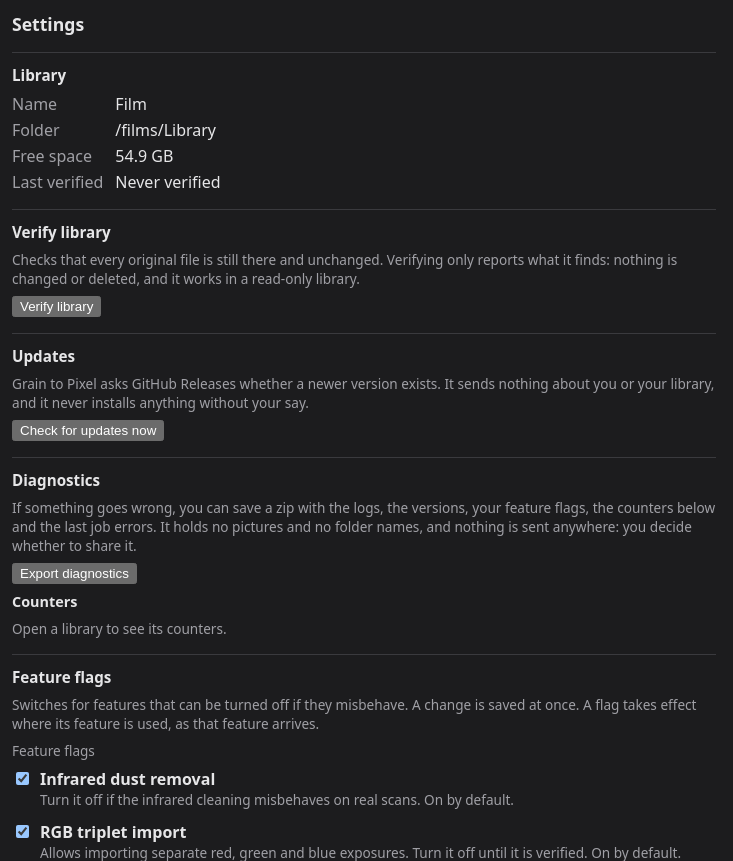
it: verifying the library from Settings › while it runs › starts the job, shows its progress and turns the button off
Step 1. Click the button "Verify library" → (57, 306), box [12, 296, 101, 317]
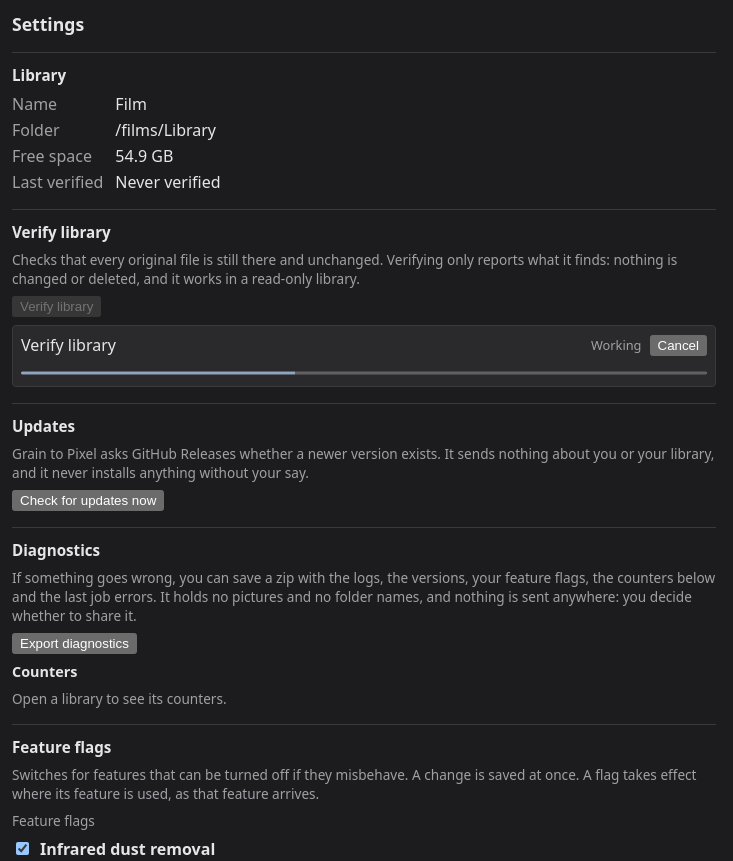
Expected: the progress indicator named "Verify library" is shown, [21, 370, 707, 376]
Expected: the button "Verify library" is disabled, [12, 296, 101, 317]
